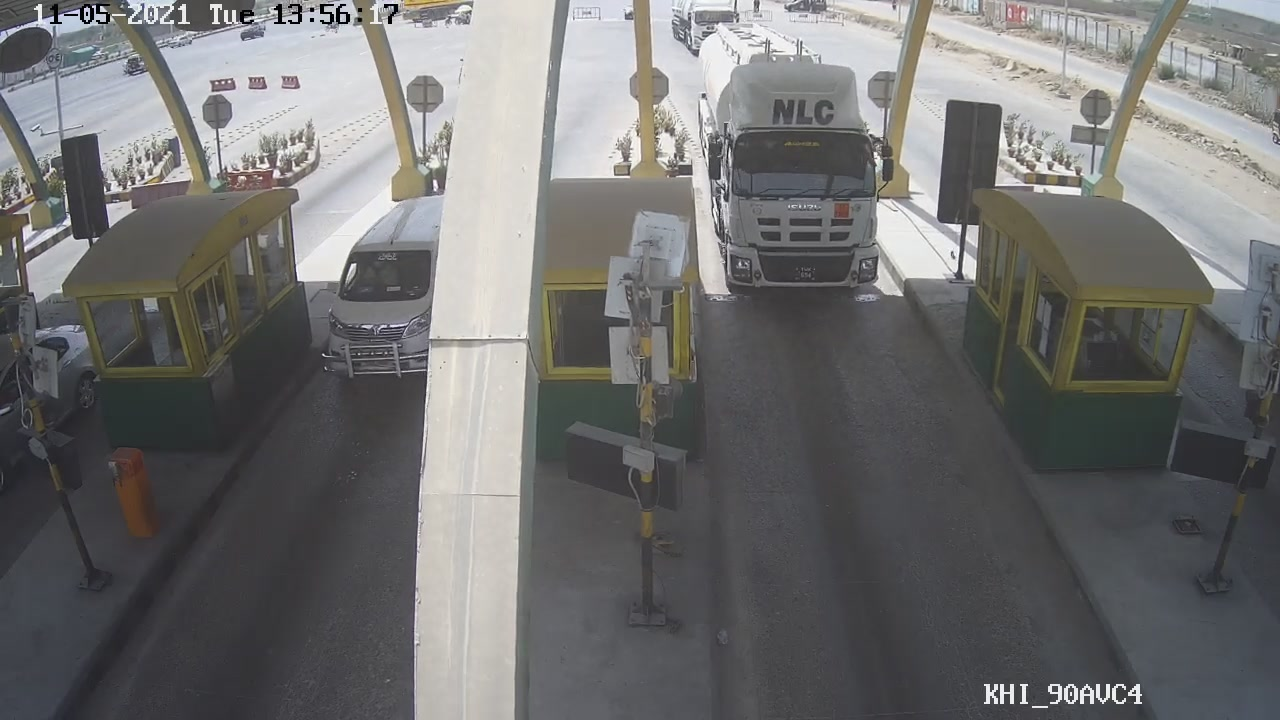F6: (698, 1, 901, 314)
